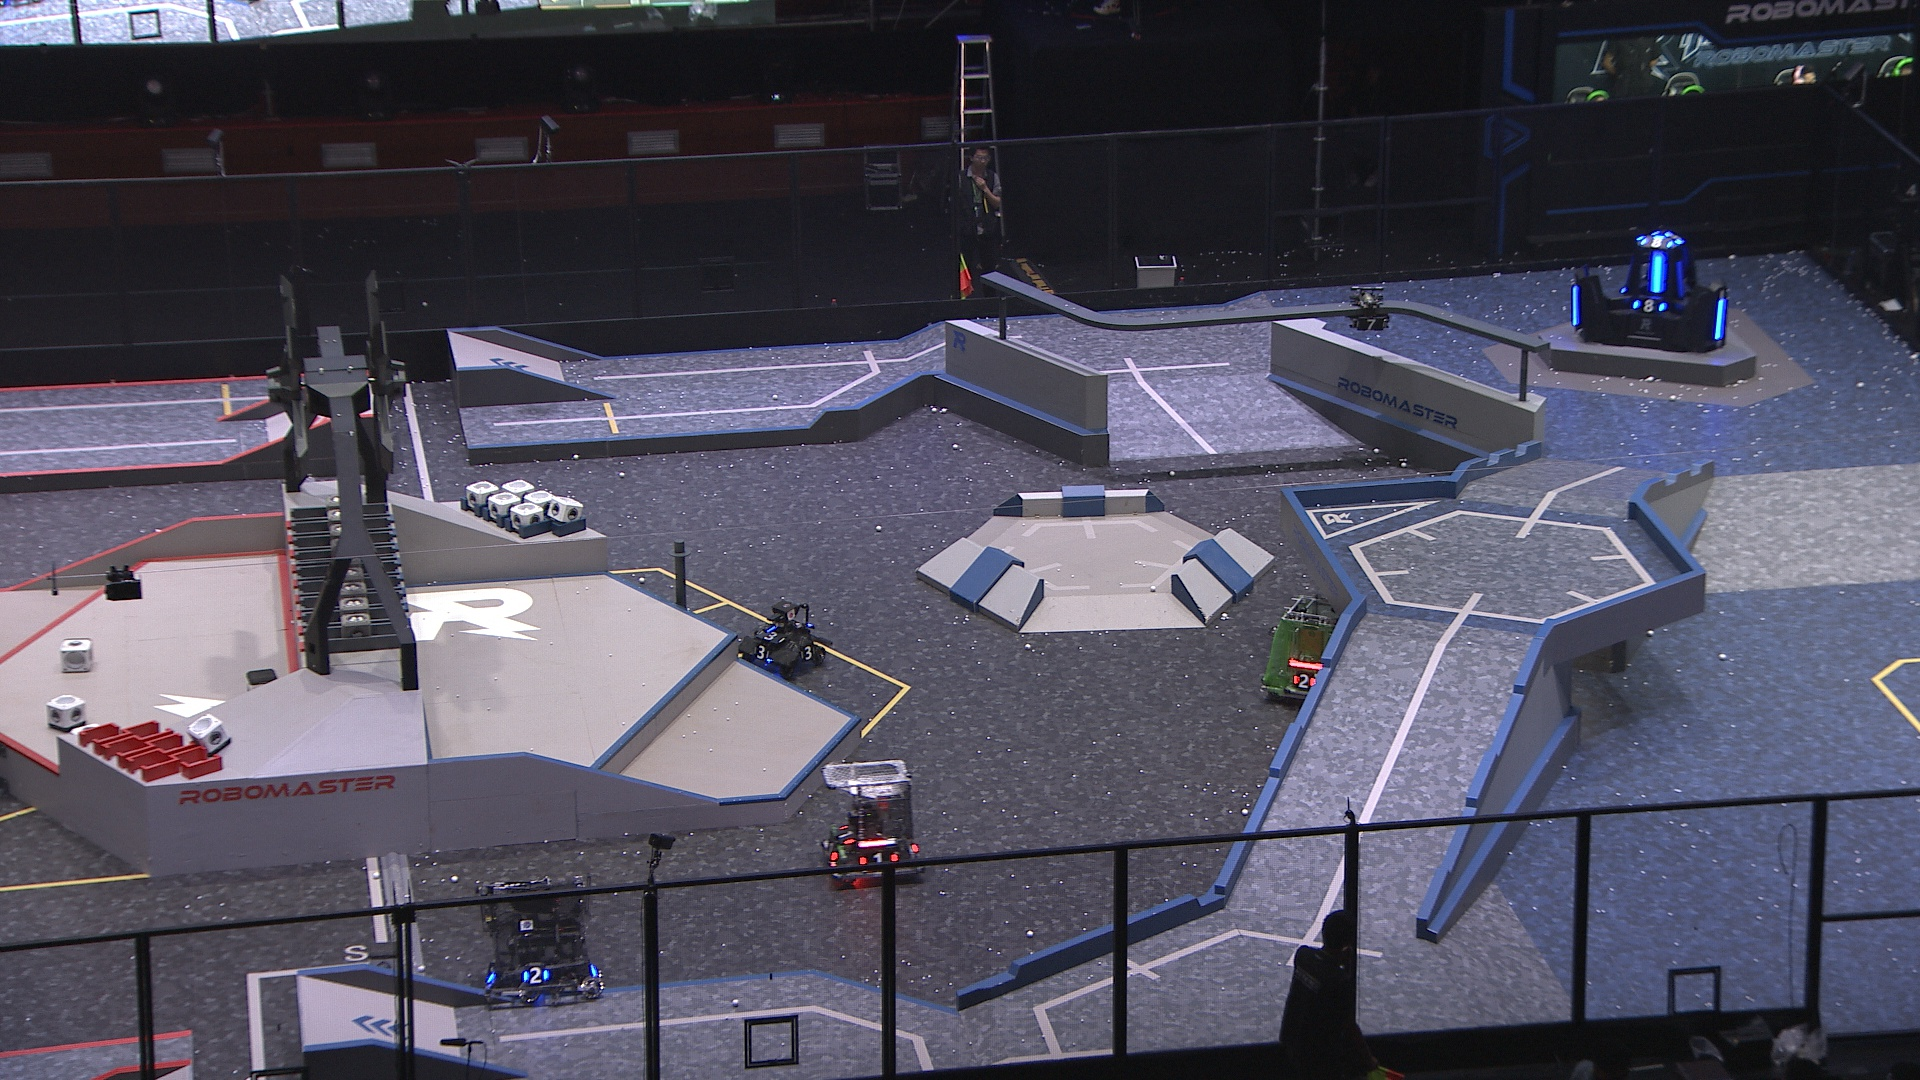armor: (1712, 295, 1730, 342), (1648, 252, 1667, 291), (855, 851, 898, 866), (520, 967, 551, 986), (1631, 297, 1667, 314), (756, 626, 789, 645), (1673, 258, 1689, 297), (1571, 282, 1582, 328), (1354, 316, 1386, 334), (1638, 235, 1676, 248), (835, 822, 855, 845), (822, 839, 840, 862), (1291, 671, 1316, 688), (798, 642, 816, 661), (756, 645, 773, 661)
base: (1564, 229, 1731, 353)
car: (475, 870, 604, 1007), (1258, 591, 1371, 711), (818, 760, 922, 887), (736, 599, 825, 680)
watcher: (1346, 285, 1390, 334)
